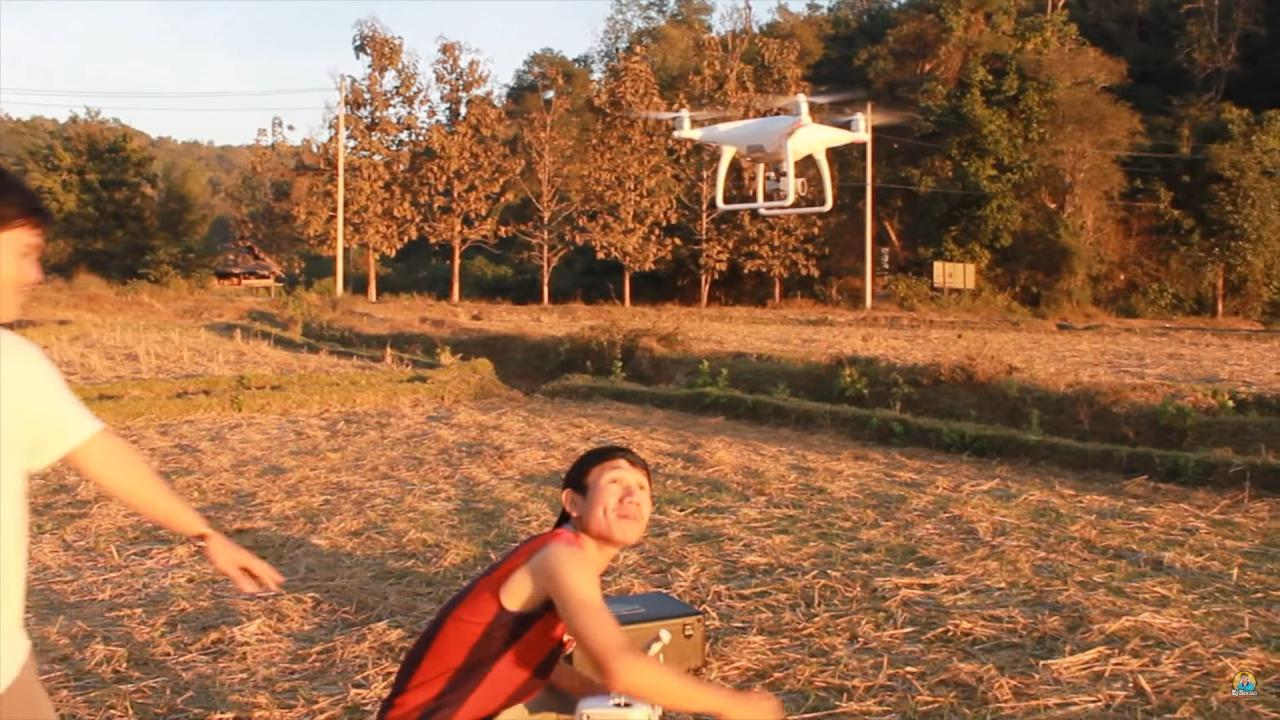Drone: (616, 83, 925, 227)
